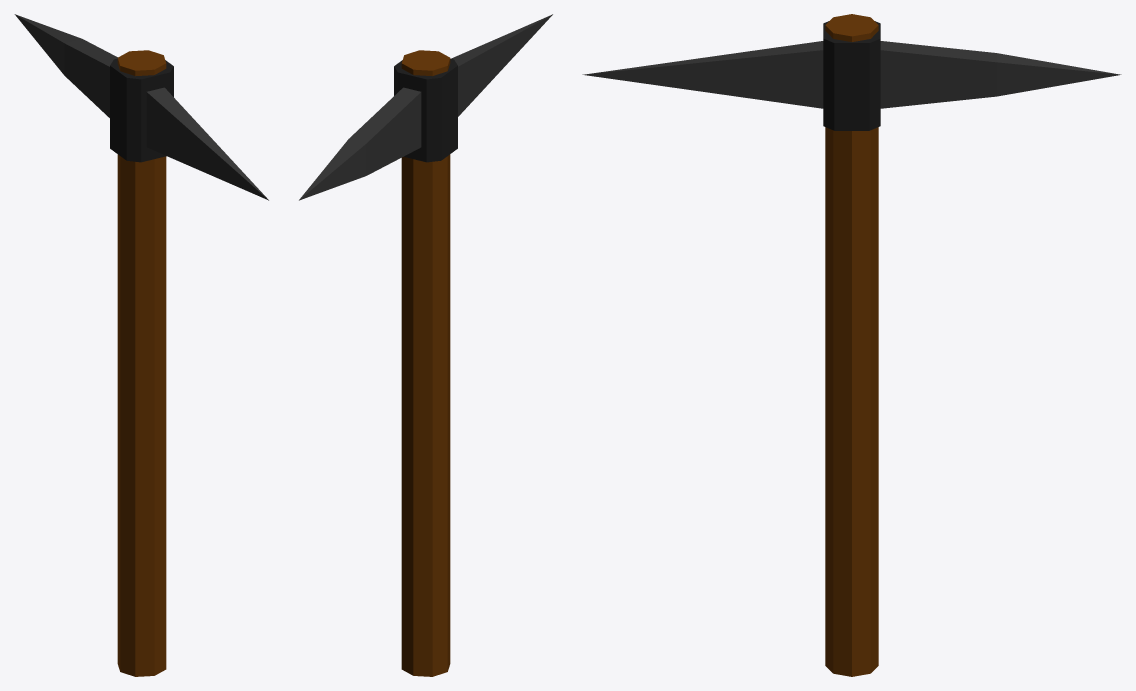
File: Pickaxe.fbx
The picture shows the model from 3 angles, left to right: view 1: azimuth 30°, elevation 25°; view 2: azimuth 150°, elevation 25°; view 3: azimuth 270°, elevation 25°; orthographic projection. The views are drawn at different scales.
Visible parts, largest first — view 1: Pickaxe; view 2: Pickaxe; view 3: Pickaxe.
Boxes of the visible parts, x1,y1,x2,y2 form: Pickaxe: (14,14,268,676); Pickaxe: (299,14,552,676); Pickaxe: (582,14,1121,676).
Size of the model in its own units: 6.09 by 74.72 by 57.03.
